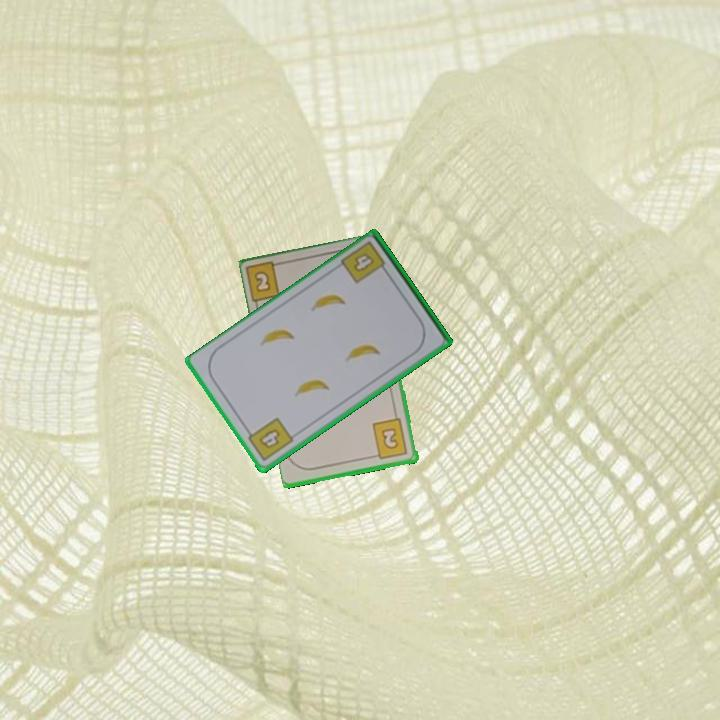2b: (244, 258, 289, 307), (369, 415, 411, 462)
4b: (242, 414, 296, 464), (338, 238, 392, 285)
